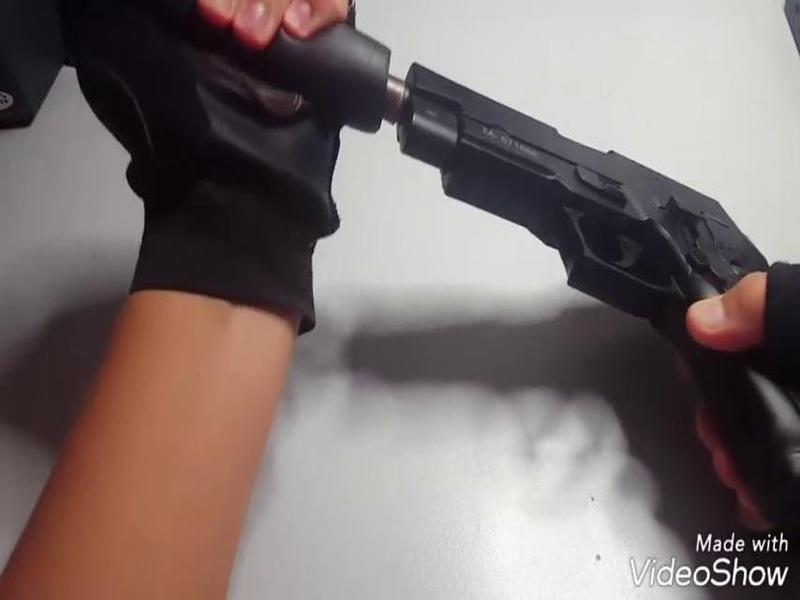Pistola: (401, 49, 800, 494)
